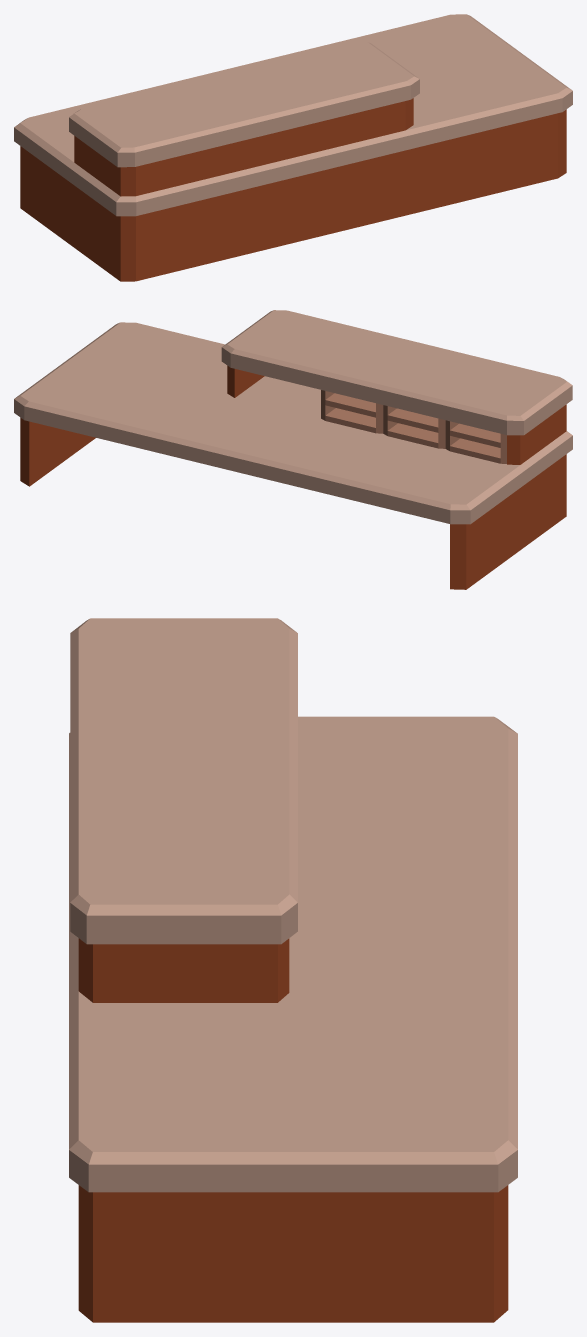
Rendered from Front Desk 01.fbx.
The picture shows the model from 3 angles, top to bottom: view 1: azimuth 30°, elevation 25°; view 2: azimuth 150°, elevation 25°; view 3: azimuth 270°, elevation 25°; orthographic projection. The views are drawn at different scales.
Visible parts, largest first — view 1: Front_Desk_01; view 2: Front_Desk_01; view 3: Front_Desk_01.
Boxes of the visible parts, left/top/right/bottom form: Front_Desk_01: left=14, top=14, right=572, bottom=281; Front_Desk_01: left=14, top=310, right=572, bottom=589; Front_Desk_01: left=69, top=618, right=517, bottom=1322.
Size of the model in its own units: 305 by 85.81 by 130.
